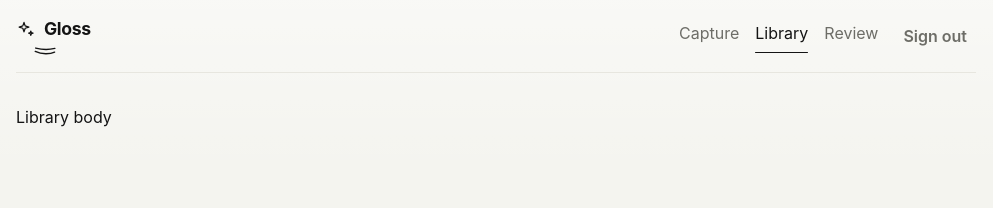
Test case: ProtectedLayout › surfaces sign-out failures instead of leaving an unhandled rejection
Click the button "Sign out" at (935, 36), box [894,16,976,56]
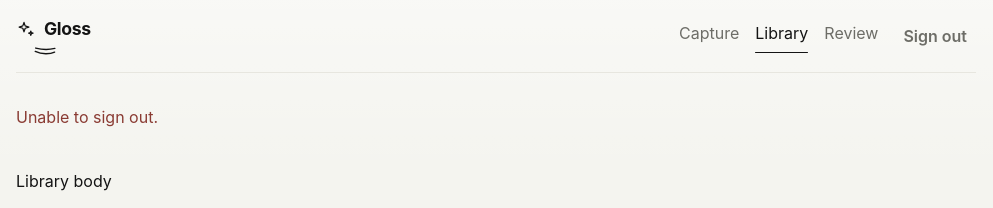
Expected: the text "Library body" is shown, [16,171,112,191]
Now the text "Unable to sign out." is shown, box [16,107,158,127]
